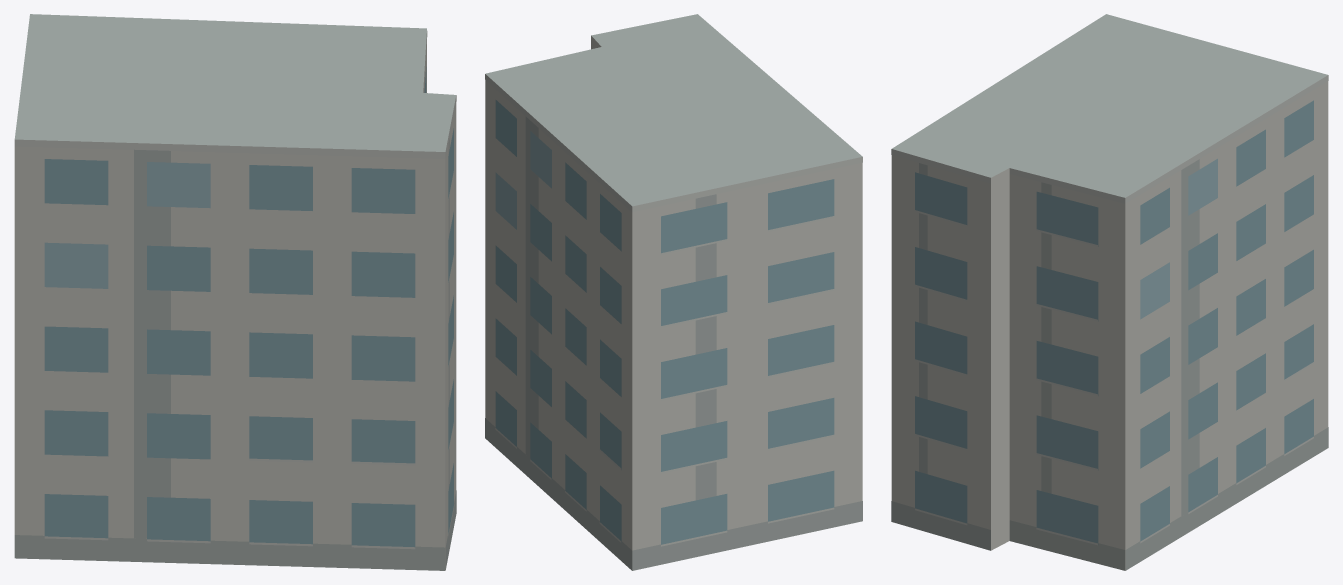
File: survey-upis-32929236.glb
3 renders of one model, left to right at view 1: azimuth 30°, elevation 25°; view 2: azimuth 150°, elevation 25°; view 3: azimuth 270°, elevation 25°, orthographic. The views are drawn at different scales.
Visible parts, largest first — view 1: survey-upis-32929236.tmp; view 2: survey-upis-32929236.tmp; view 3: survey-upis-32929236.tmp.
Part boxes in pixels (x1,y1,x2,y2): survey-upis-32929236.tmp: (14,14,456,570); survey-upis-32929236.tmp: (485,14,862,570); survey-upis-32929236.tmp: (891,14,1328,570).
Size of the model in its own units: 15.91 by 15.04 by 15.98.
